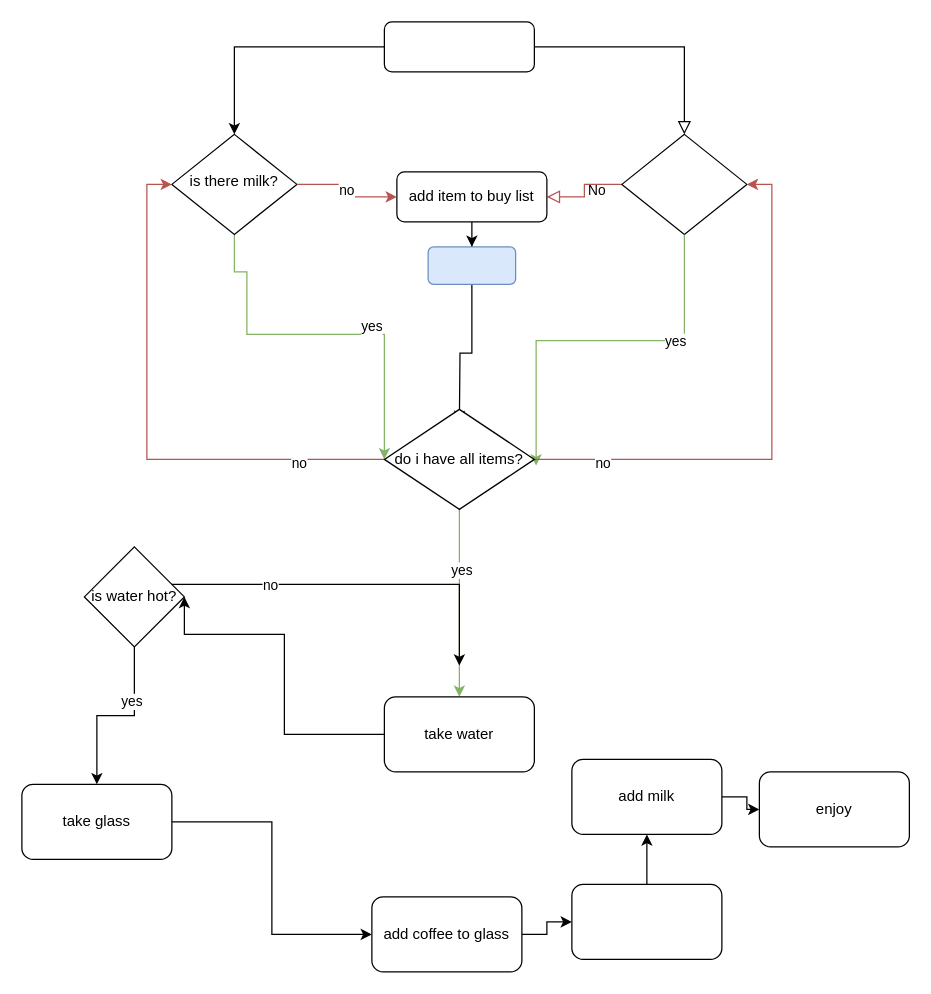
This 931x994 diagram has some shape labels left out. The shapes that lost their labels are listed below. From the top down, each one's centre as x and y in pixels, then its label:
the point at 458,46: make coffee yum yum
the point at 684,183: is there coffee ?
the point at 471,265: buy items at store
the point at 646,921: pour hot water in the glass
